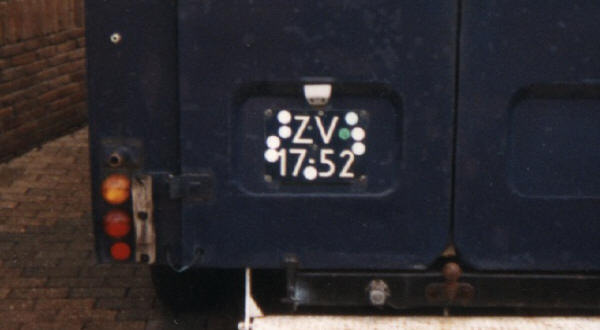license_plate: (263, 104, 370, 184)
